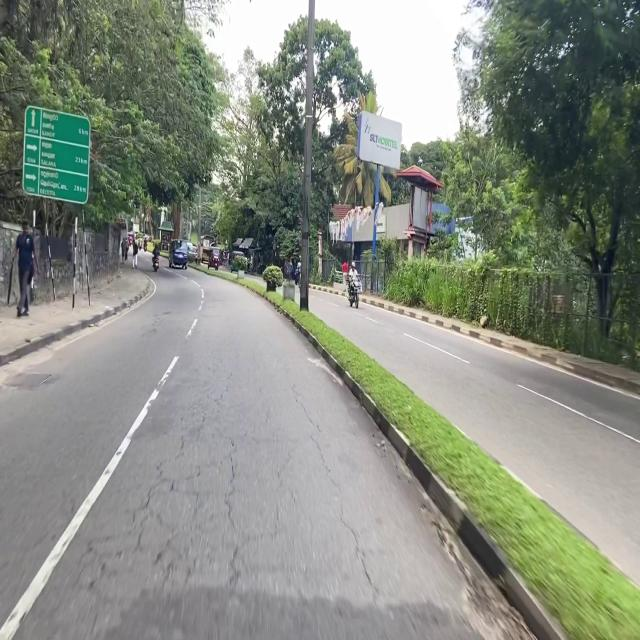bus: (201, 235, 215, 262)
motorcycle: (348, 278, 358, 309), (153, 257, 159, 271)
person: (8, 220, 39, 316), (349, 261, 359, 283), (342, 261, 348, 291), (133, 237, 138, 269), (121, 238, 127, 261), (153, 245, 159, 257)
three wheeler: (209, 246, 220, 270), (232, 249, 243, 272)
van: (169, 239, 187, 269)
